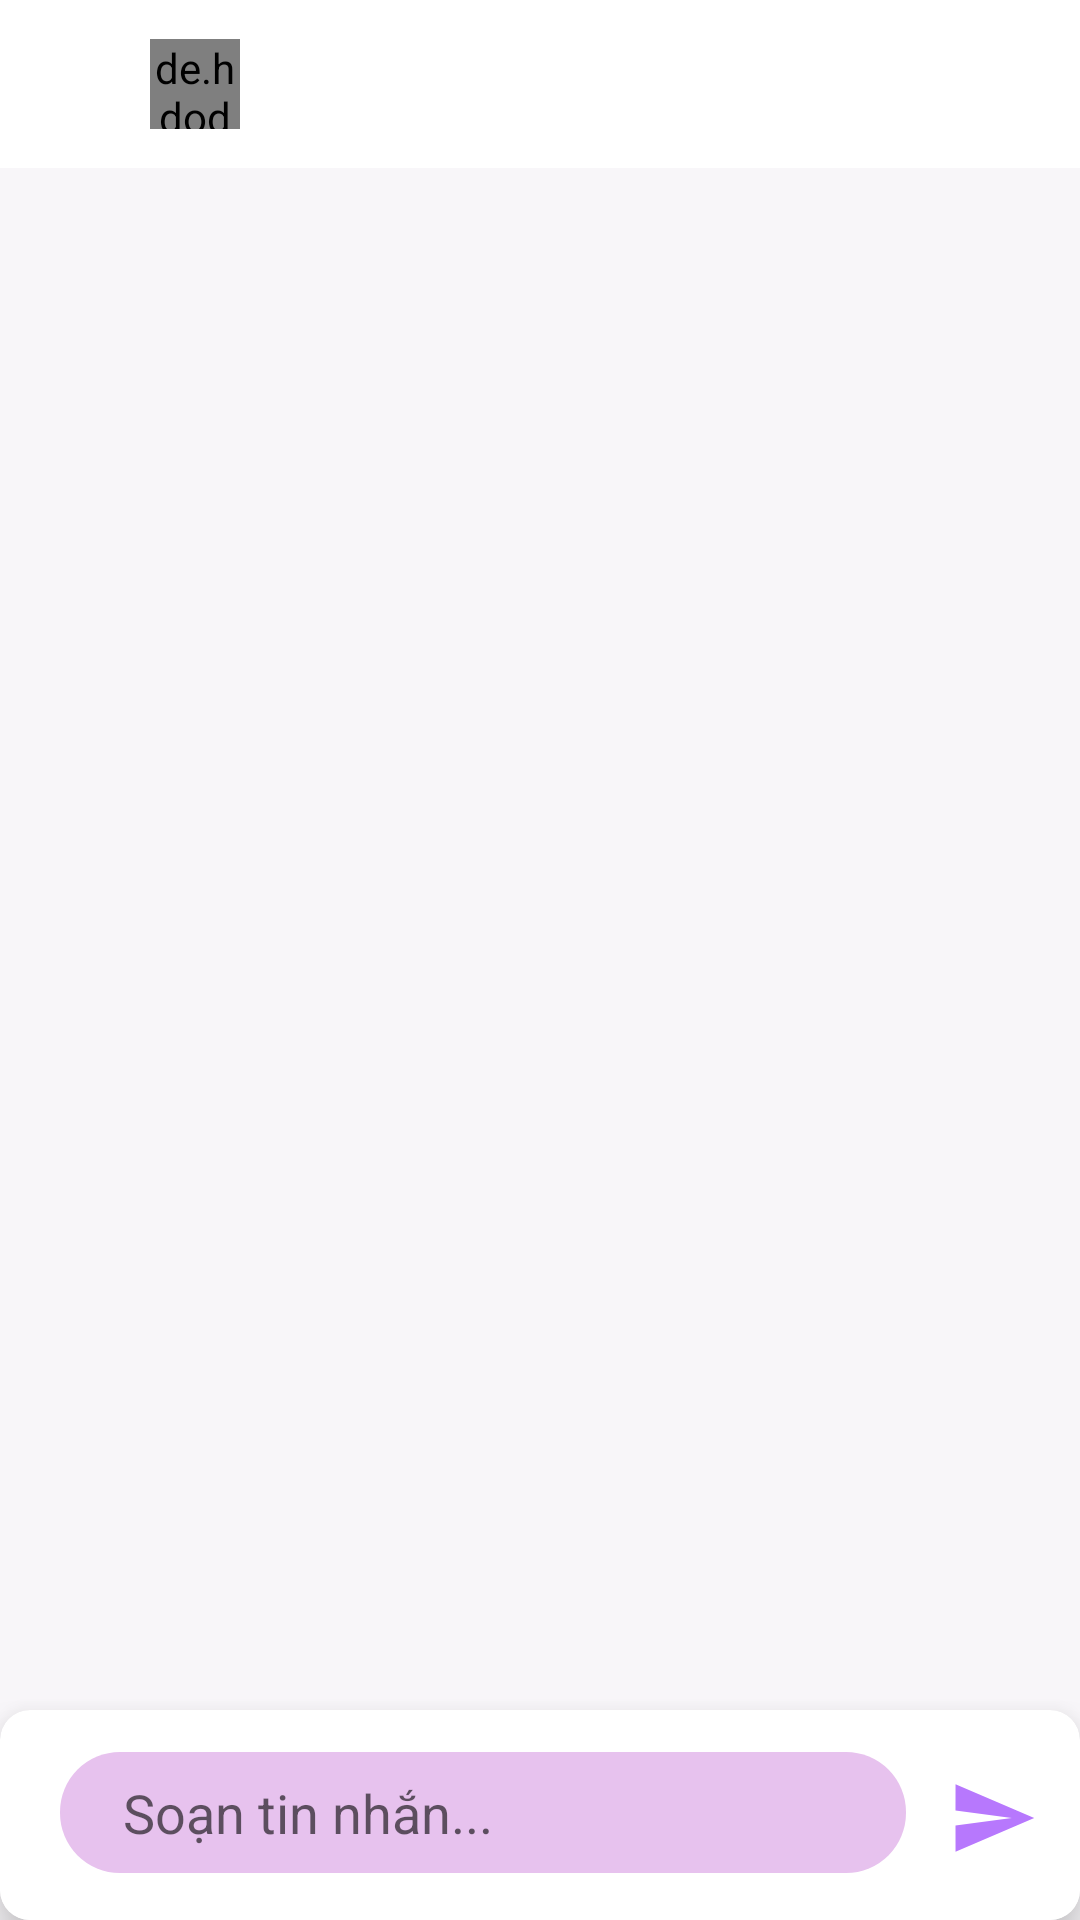

Named icons in this screenshot (1080px x 1920px) and their bounding boxes, bbox=(x1, y1, x2, y2):
send: bbox=(955, 1784, 1034, 1852)
